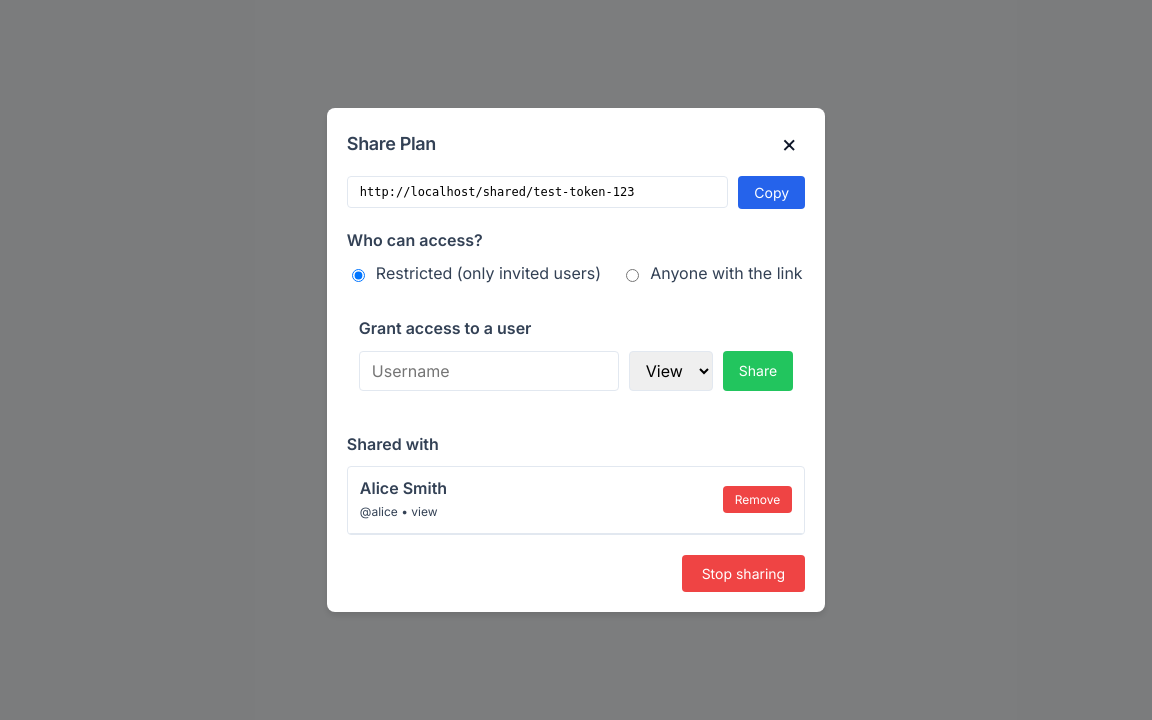
Scenario: ShareDialog › grants access to a user and adds them to the grants list
The width and height of the screenshot is (1152, 720).
Expected: the field showing "/shared/test-token-123" is shown, [347,176,728,208]
Type "bob" into the field with placeholder "Username".
click(489, 370); type("bob")  # box [359,350,619,390]
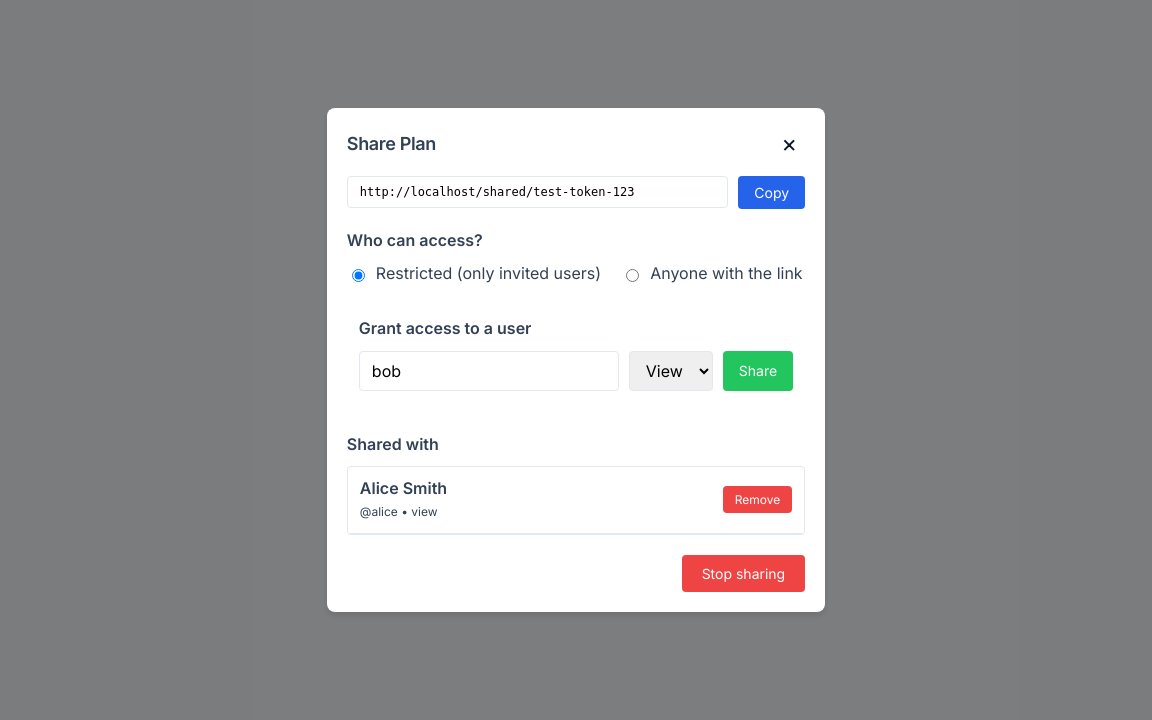
Select "Edit" in the dropdown showing "View" at [671, 370], box [629,350,713,390]
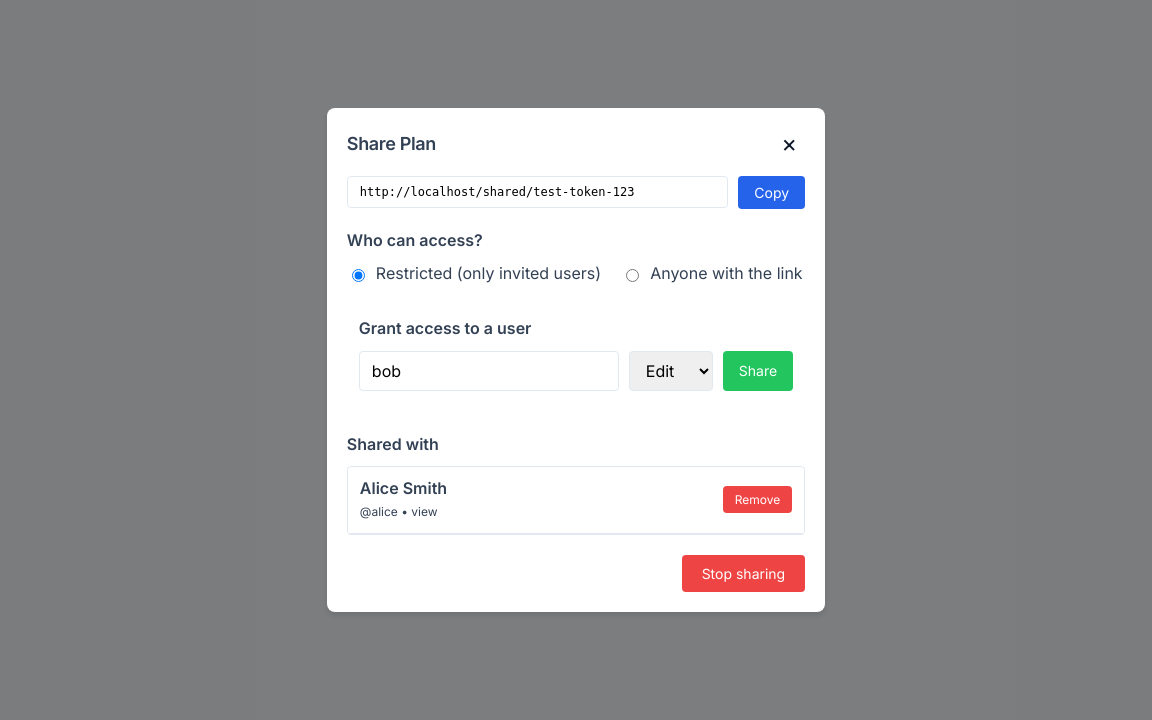
Click the button "Share".
click(758, 370)  # box [723,350,793,390]
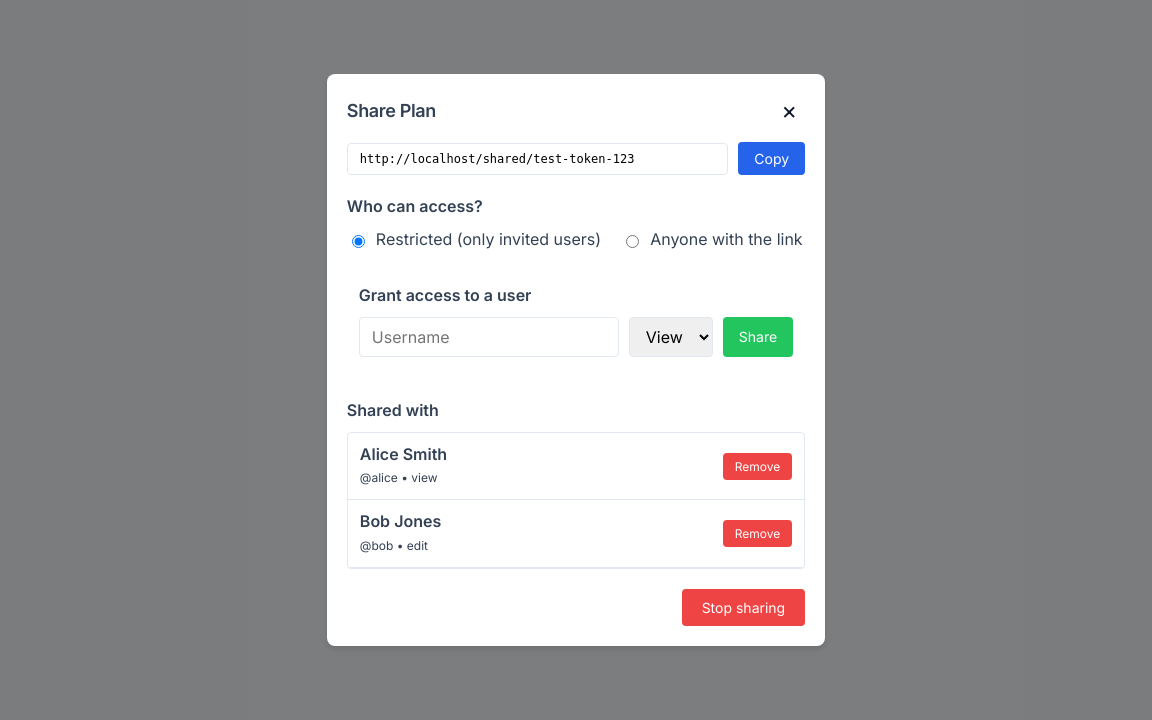
Expected: the text "Bob Jones" is shown, [360,510,441,534]
